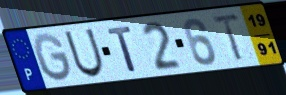2: (141, 20, 184, 73)
6: (183, 16, 218, 68)
G: (32, 31, 75, 83)
T: (211, 12, 246, 63), (105, 24, 139, 74)
U: (62, 27, 106, 80)
